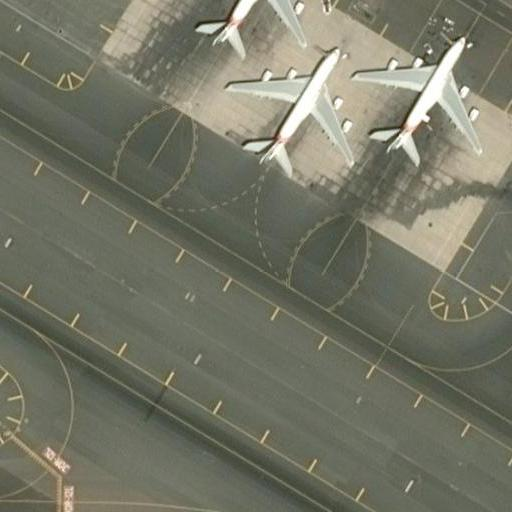Aircraft: (347, 16, 484, 168), (221, 25, 352, 181), (175, 0, 297, 69)
